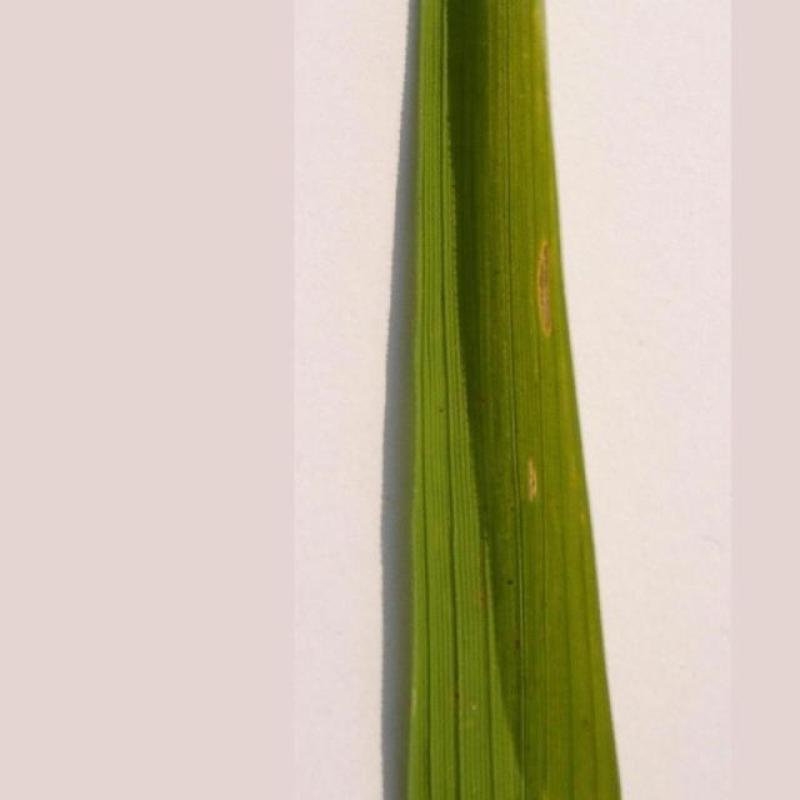Bacterial_Leaf_Blight: (509, 234, 585, 354)
